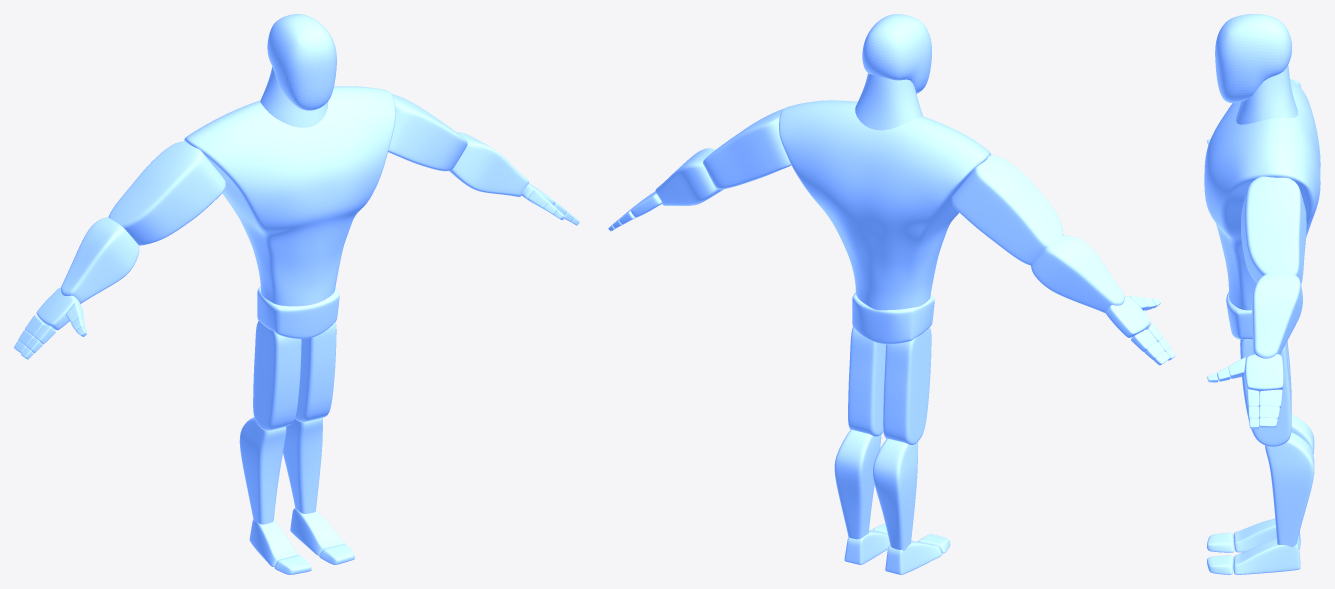
The model's file is Herc.fbx.
3 views of the same model, side by side, from view 1: azimuth 30°, elevation 25°; view 2: azimuth 150°, elevation 25°; view 3: azimuth 270°, elevation 25° (orthographic).
Parts seen in each view (by area): view 1: Cube; view 2: Cube; view 3: Cube.
Part boxes in pixels (x1,y1,x2,y2): Cube: (14,14,579,574); Cube: (608,14,1175,574); Cube: (1204,14,1320,574).
Bounding box in the file's own units: 729 × 669 × 130.
